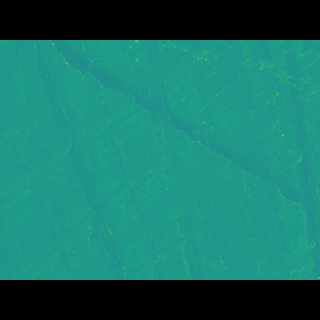Loch: (0, 71, 320, 250), (48, 69, 312, 196)
